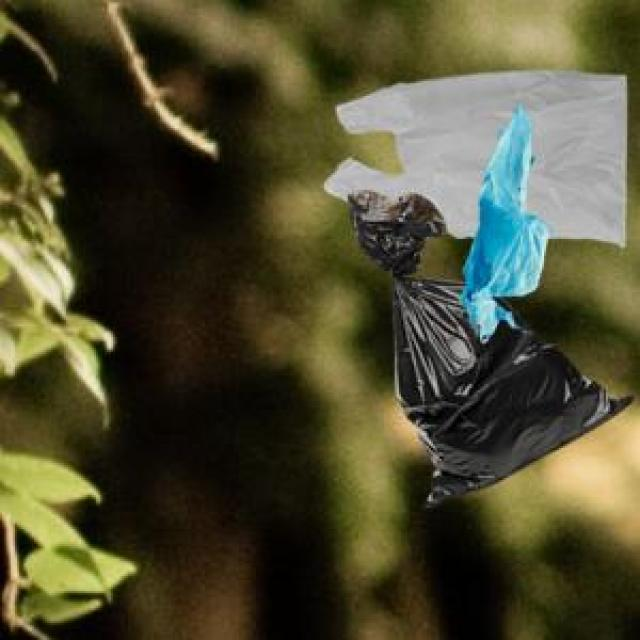miscellaneous trash: (344, 188, 629, 504)
